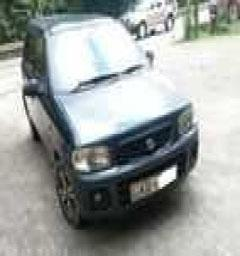car: (12, 10, 214, 236)
